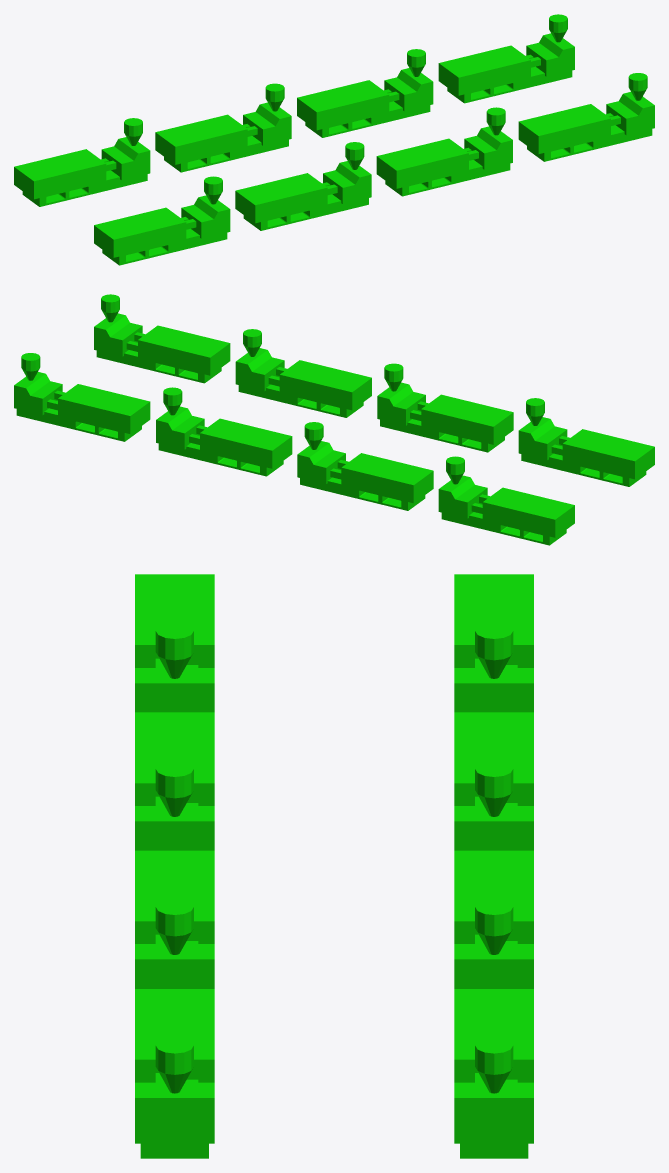
The model's file is Injection.glb.
3 renders of one model, top to bottom at view 1: azimuth 30°, elevation 25°; view 2: azimuth 150°, elevation 25°; view 3: azimuth 270°, elevation 25°, orthographic. The views are drawn at different scales.
Parts seen in each view (by area): view 1: Machine7, Machine8, Machine2, Machine5, Machine6, Machine1, Machine4, Machine3; view 2: Machine3, Machine4, Machine1, Machine2, Machine6, Machine5, Machine8, Machine7; view 3: Machine4, Machine8, Machine1, Machine2, Machine3, Machine5, Machine6, Machine7.
Boxes of the visible parts, <box> form: Machine7: <box>376,107,512,196</box>; Machine8: <box>518,73,654,161</box>; Machine2: <box>155,83,291,172</box>; Machine5: <box>94,176,230,265</box>; Machine6: <box>235,142,371,230</box>; Machine1: <box>14,118,150,206</box>; Machine4: <box>438,14,574,103</box>; Machine3: <box>297,49,433,137</box>; Machine3: <box>156,387,292,476</box>; Machine4: <box>14,353,150,441</box>; Machine1: <box>438,456,574,545</box>; Machine2: <box>297,422,433,510</box>; Machine6: <box>377,363,513,452</box>; Machine5: <box>518,398,654,486</box>; Machine8: <box>94,294,230,383</box>; Machine7: <box>235,329,371,417</box>; Machine4: <box>454,989,533,1158</box>; Machine8: <box>135,989,214,1158</box>; Machine1: <box>454,574,533,712</box>; Machine2: <box>454,712,533,850</box>; Machine3: <box>454,850,533,988</box>; Machine5: <box>135,574,214,712</box>; Machine6: <box>135,712,214,850</box>; Machine7: <box>135,850,214,988</box>.
Size of the model in its own units: 27.79 by 2.63 by 8.85.
